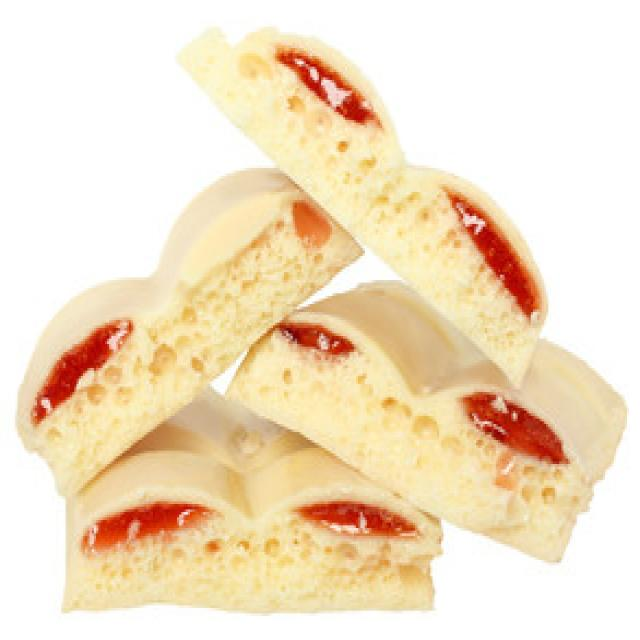chocolate: (14, 29, 627, 608)
